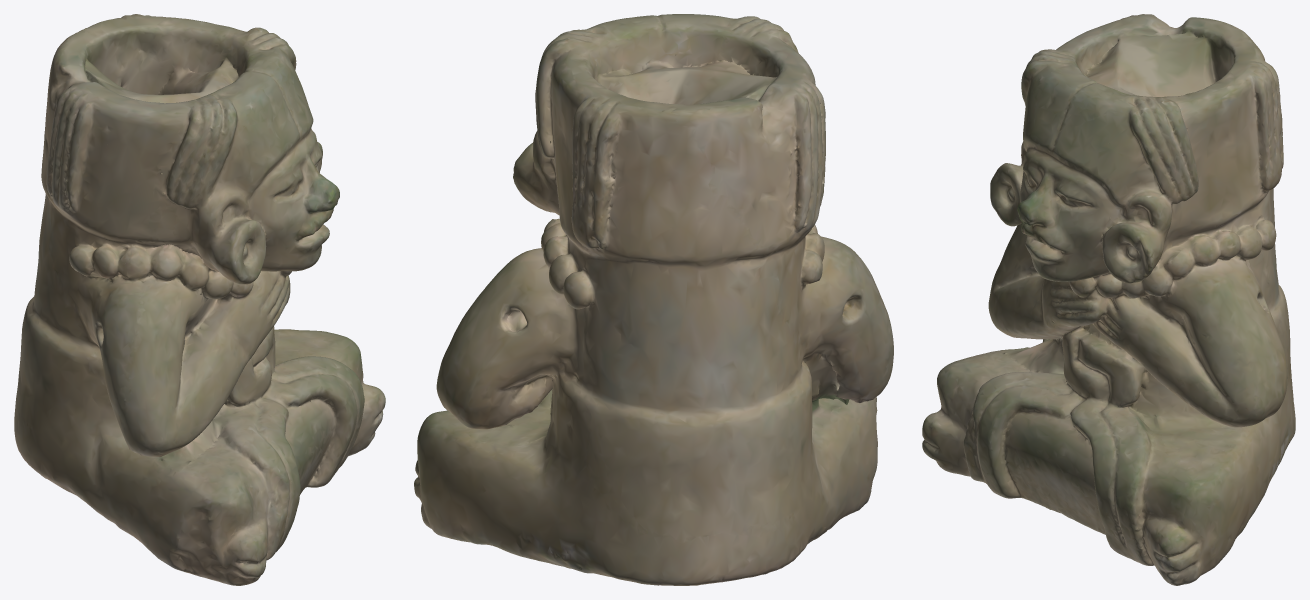
Rendered from preview.glb.
3 renders of one model, left to right at view 1: azimuth 30°, elevation 25°; view 2: azimuth 150°, elevation 25°; view 3: azimuth 270°, elevation 25°, orthographic. The views are drawn at different scales.
Parts seen in each view (by area): view 1: Object_2; view 2: Object_2; view 3: Object_2.
Part boxes in pixels (x1,y1,x2,y2): Object_2: (14, 14, 385, 585); Object_2: (414, 14, 893, 585); Object_2: (922, 14, 1295, 585).
Bounding box in the file's own units: 116 × 147 × 114.
